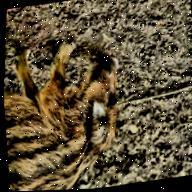boar: (0, 16, 146, 192)
